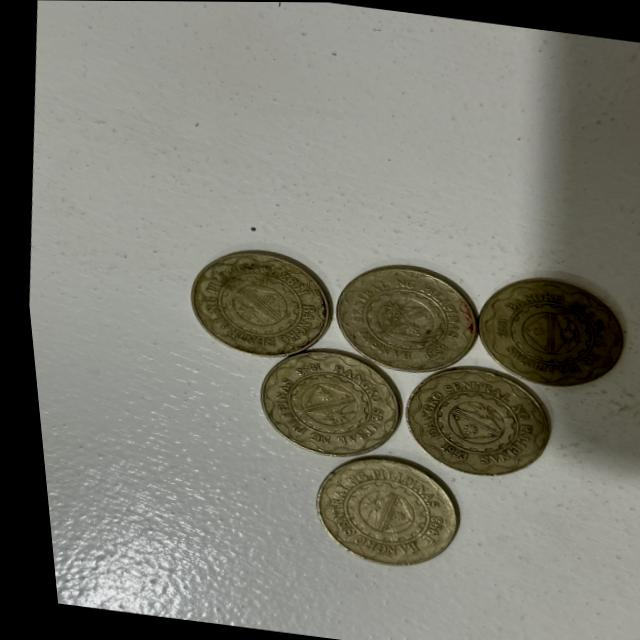5_Old_Back: (244, 340, 404, 467), (466, 268, 625, 391), (391, 363, 550, 485), (322, 256, 478, 379), (176, 242, 332, 365), (303, 451, 458, 571)
